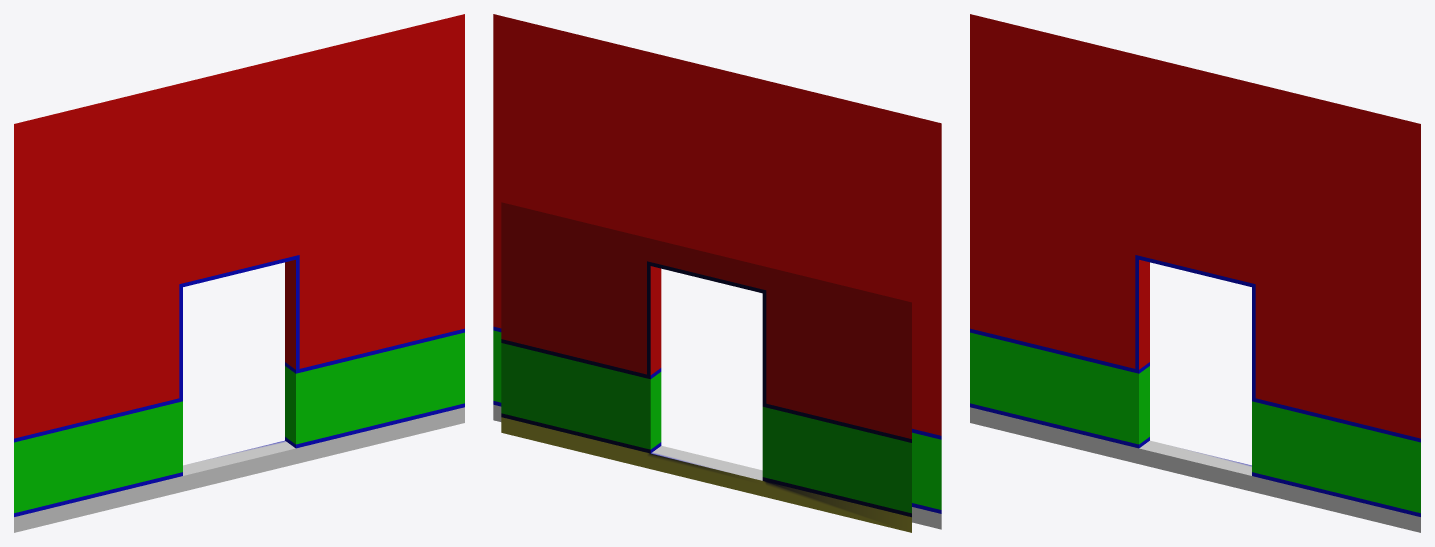
Rendered from SM_Room6xXDoorA.fbx.
3 renders of one model, left to right at view 1: azimuth 30°, elevation 25°; view 2: azimuth 150°, elevation 25°; view 3: azimuth 330°, elevation 25°, orthographic.
Parts seen in each view (by area): view 1: SM_Room6xXDoorA; view 2: SM_Room6xXDoorA; view 3: SM_Room6xXDoorA.
Boxes of the visible parts, left/top/right/bottom form: SM_Room6xXDoorA: left=14, top=14, right=464, bottom=532; SM_Room6xXDoorA: left=493, top=14, right=941, bottom=532; SM_Room6xXDoorA: left=970, top=14, right=1420, bottom=532.
Bounding box in the file's own units: 600 × 520 × 25.
